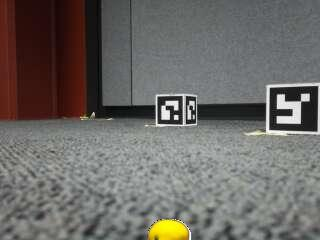lemon: (151, 221, 189, 240)
